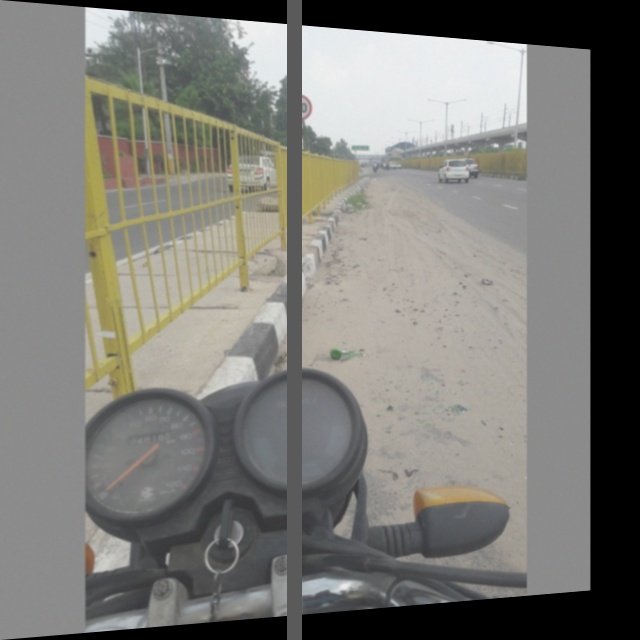Speed_Limit_40: (283, 90, 317, 124)
